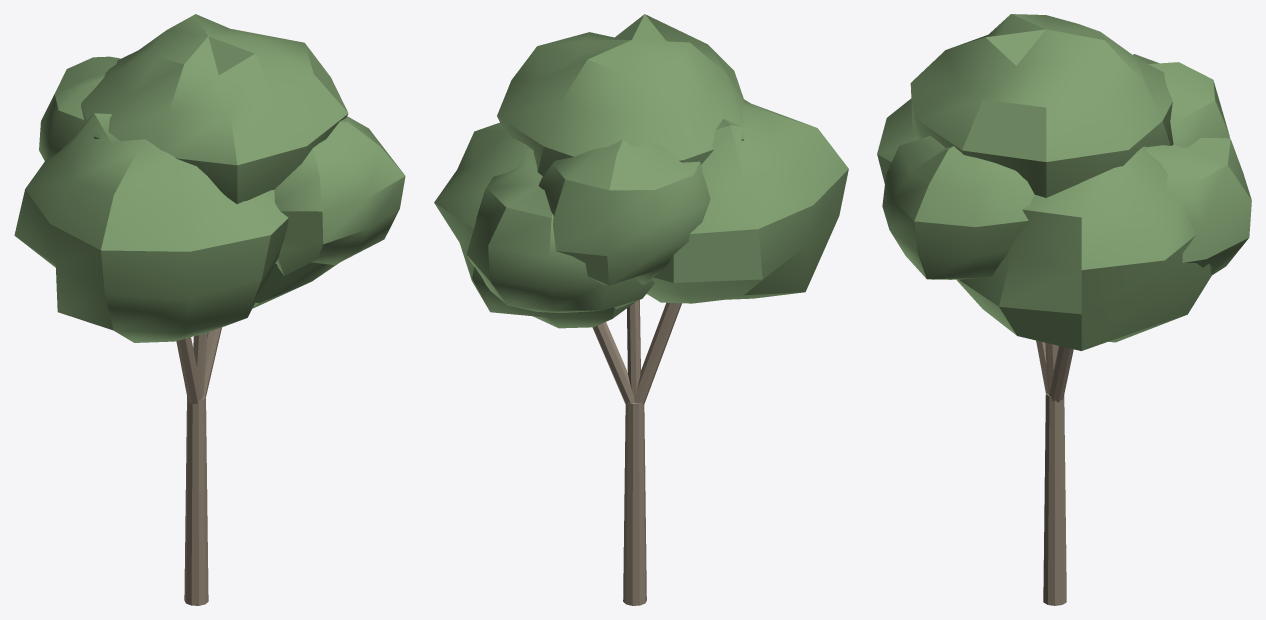
File: street_tree.glb
The picture shows the model from 3 angles, left to right: view 1: azimuth 30°, elevation 25°; view 2: azimuth 150°, elevation 25°; view 3: azimuth 270°, elevation 25°; orthographic projection. The views are drawn at different scales.
Parts seen in each view (by area): view 1: Crown, Trunk; view 2: Crown, Trunk; view 3: Crown, Trunk.
Boxes of the visible parts, box(x1,y1,x2,y2) form: Crown: box(14, 14, 405, 342); Trunk: box(176, 327, 221, 605); Crown: box(434, 14, 848, 328); Trunk: box(592, 300, 681, 605); Crown: box(877, 14, 1251, 350); Trunk: box(1036, 340, 1073, 605).
Size of the model in its own units: 4.42 by 7.2 by 4.25.
